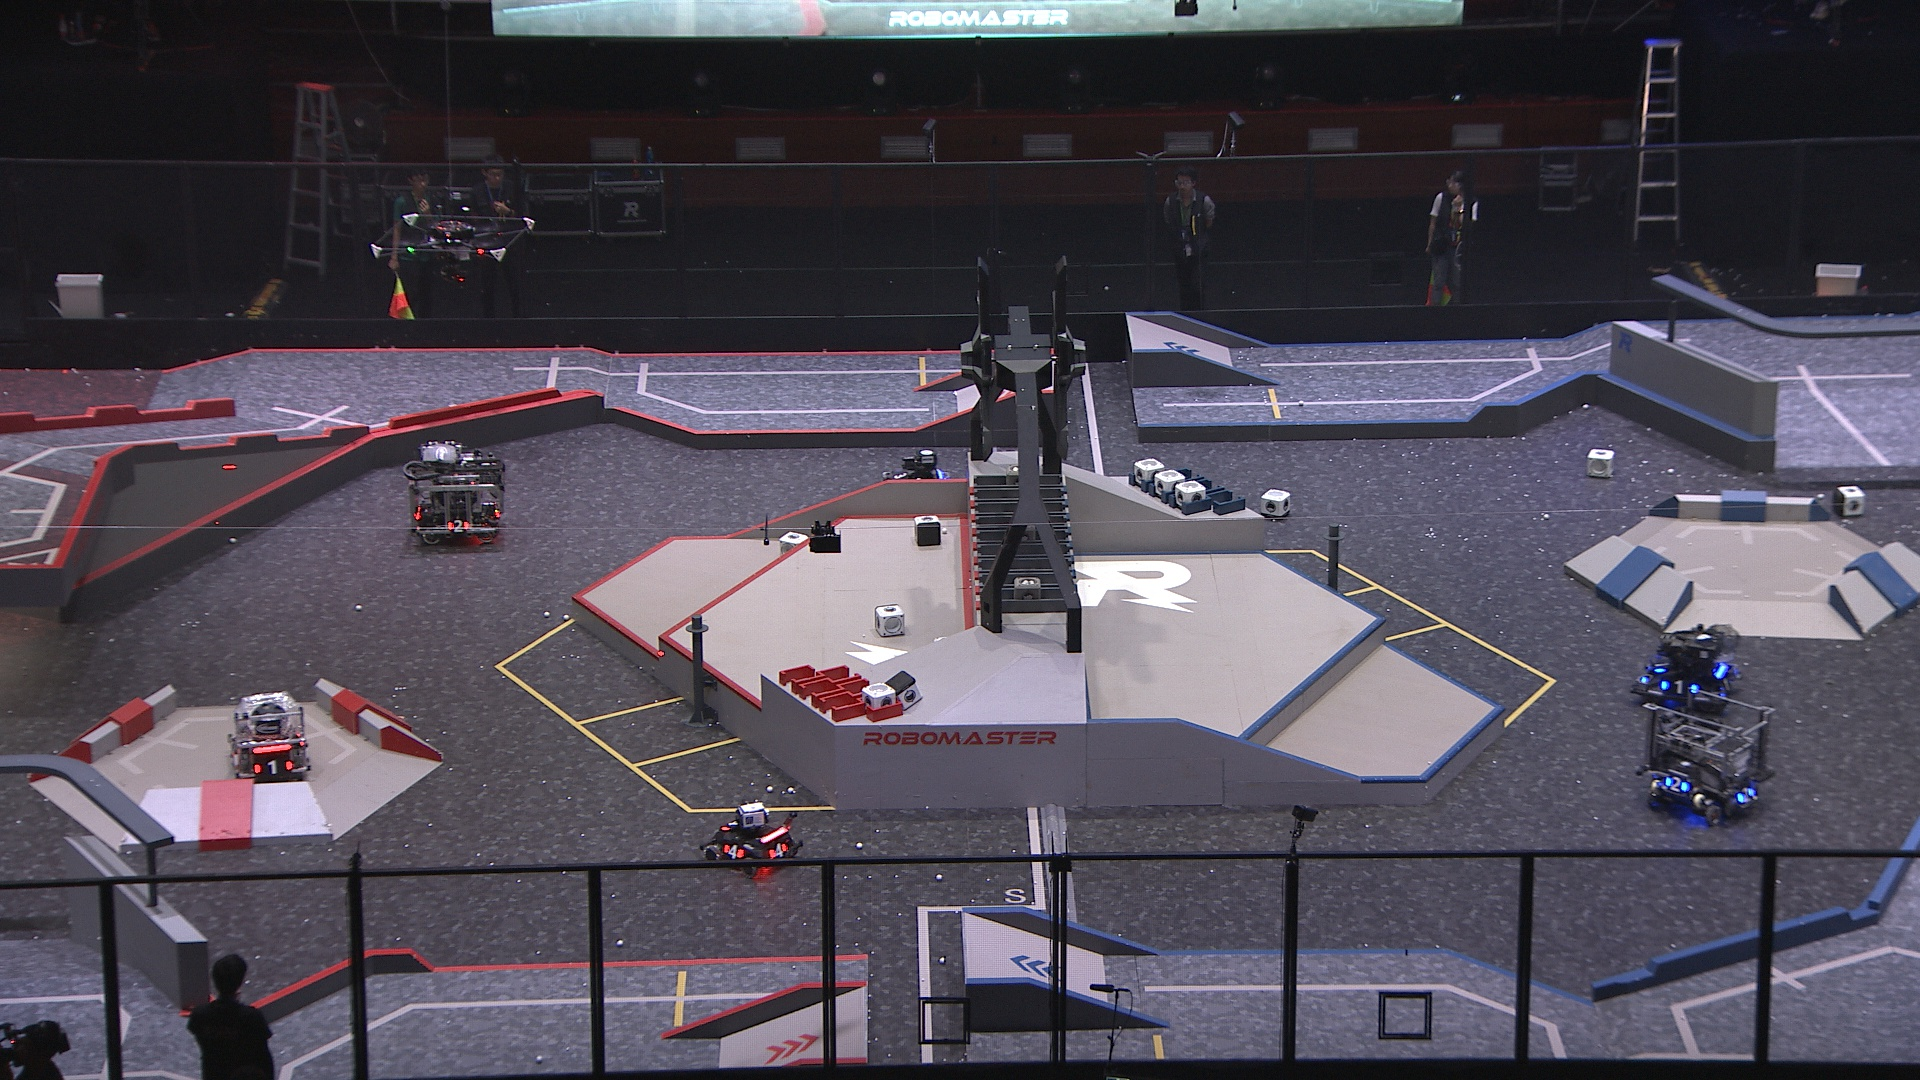armor: (251, 756, 295, 778), (1659, 675, 1698, 698), (764, 839, 793, 864), (1713, 671, 1741, 695), (1662, 771, 1691, 794), (1735, 783, 1760, 807), (717, 816, 741, 840), (1647, 659, 1673, 678), (723, 843, 745, 862), (446, 517, 469, 534), (891, 469, 910, 487)
car: (1636, 687, 1774, 825), (404, 438, 506, 549), (1629, 622, 1747, 716), (694, 799, 804, 880), (225, 694, 313, 785), (880, 446, 955, 509)
